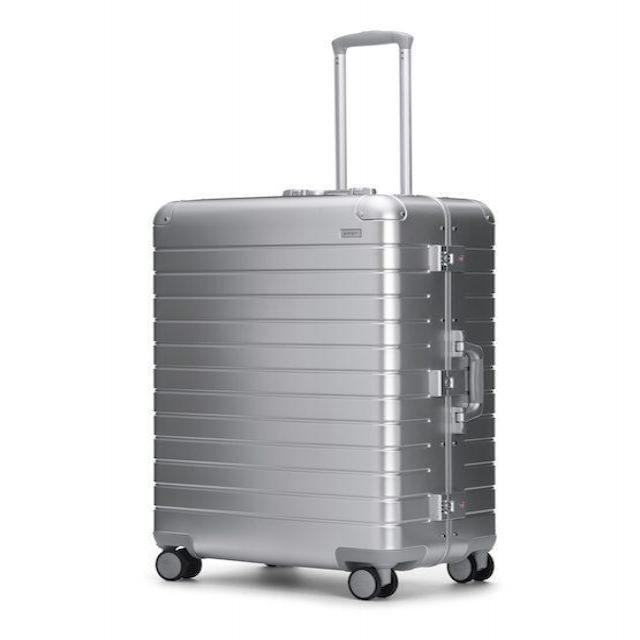luggage: (143, 184, 505, 577)
